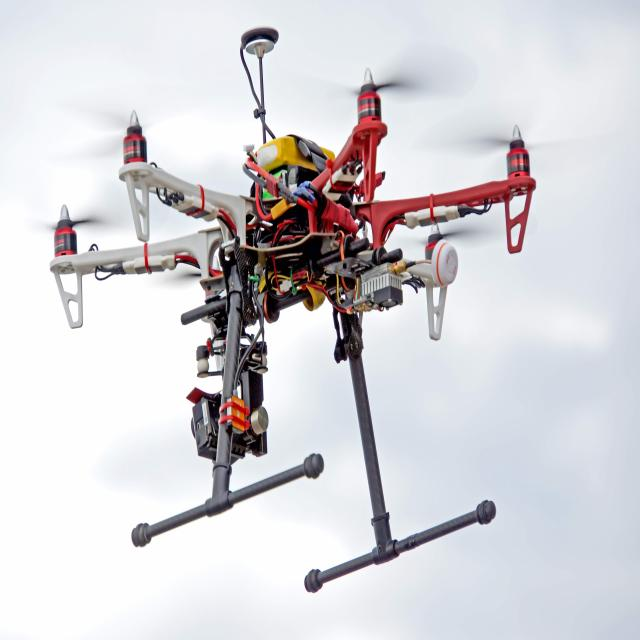drone: (15, 22, 564, 592)
